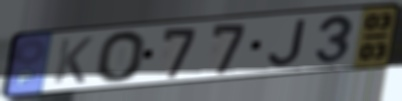3: (311, 13, 358, 66)
7: (211, 22, 248, 76), (161, 27, 198, 80)
J: (265, 17, 309, 68)
K: (51, 35, 96, 86)
O: (94, 29, 149, 85)
